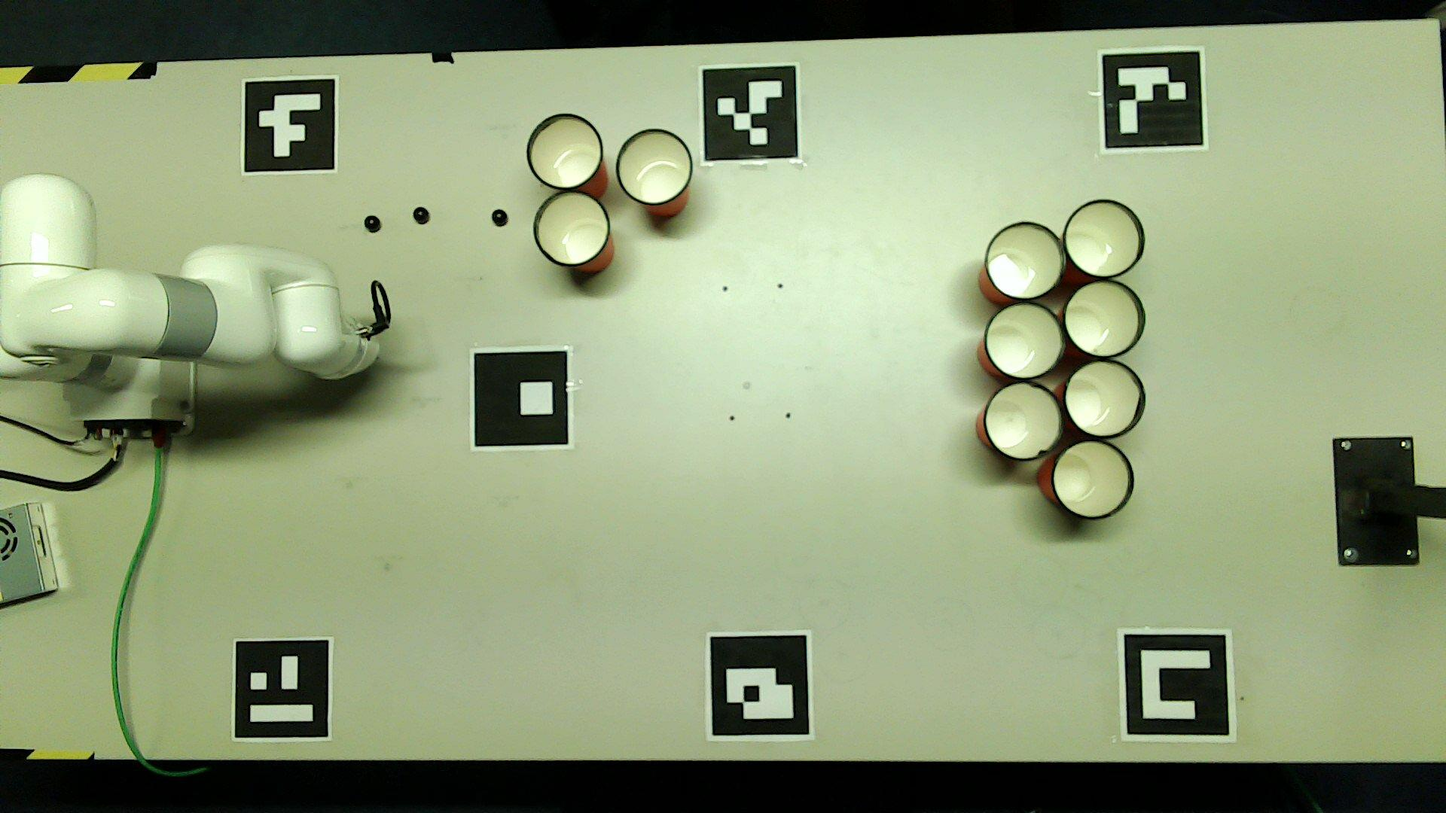ball: (414, 207, 428, 223), (365, 216, 380, 230), (493, 210, 507, 225)
cup: (1053, 439, 1133, 518), (1065, 360, 1145, 438), (1064, 200, 1143, 278), (985, 382, 1063, 460), (987, 222, 1066, 299), (1066, 281, 1145, 358), (986, 302, 1065, 379), (617, 130, 692, 205), (535, 191, 609, 266), (529, 115, 602, 189)
